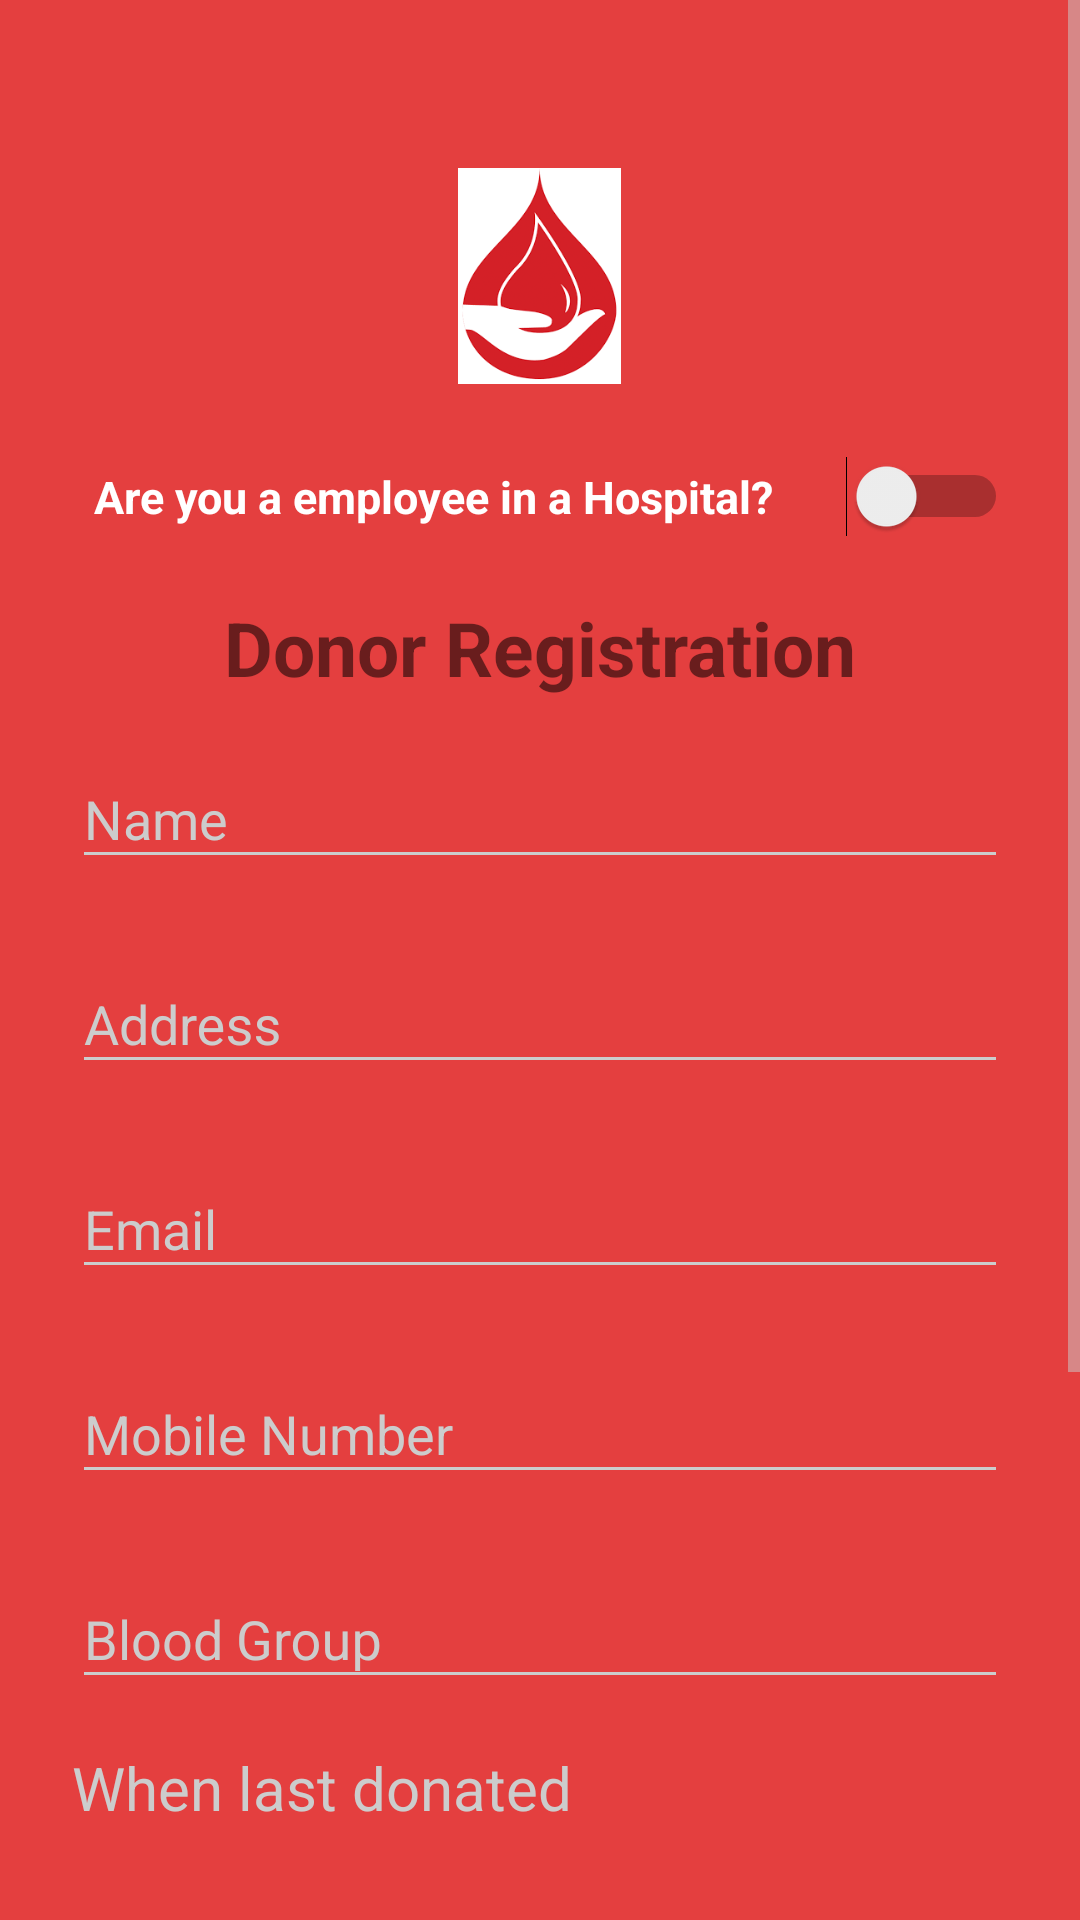

Icon click points for this 1080×1920 phone screenshot, format (x=x, y=y):
blooddrop: (x=539, y=276)
